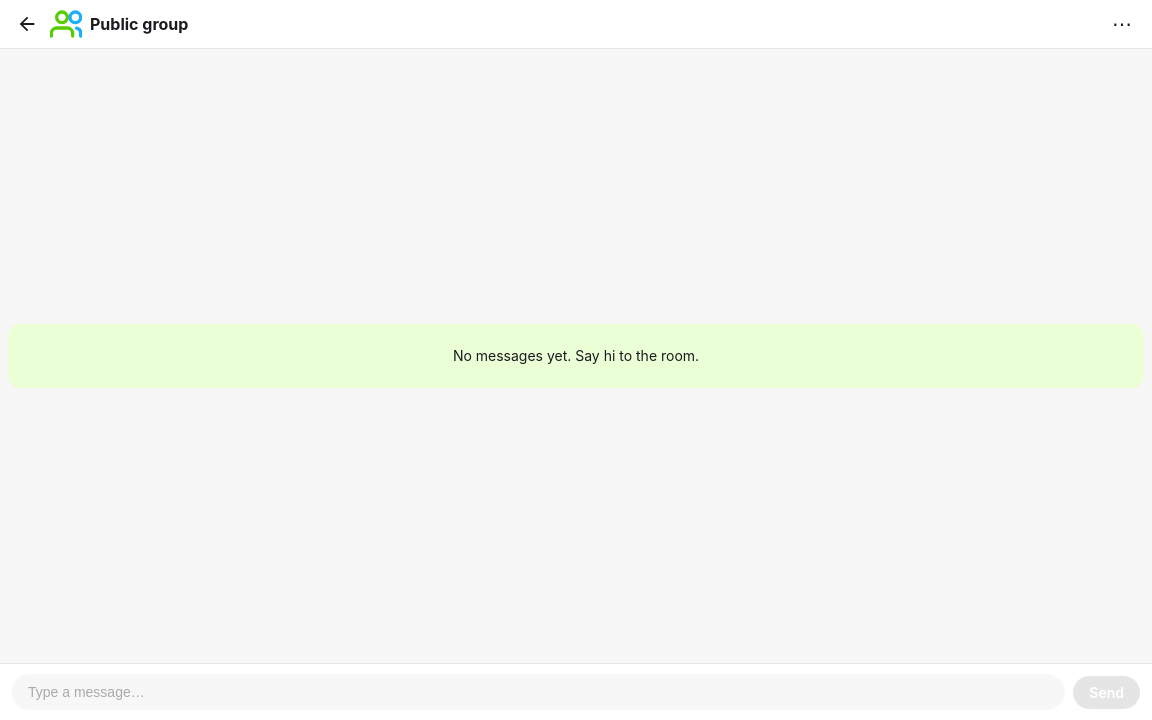
Test case: SocialChatPage › warns the user when pressing Enter before the socket is open
Type "hi" into the field with class "chat-input" at [539, 692], box [12, 674, 1065, 710]
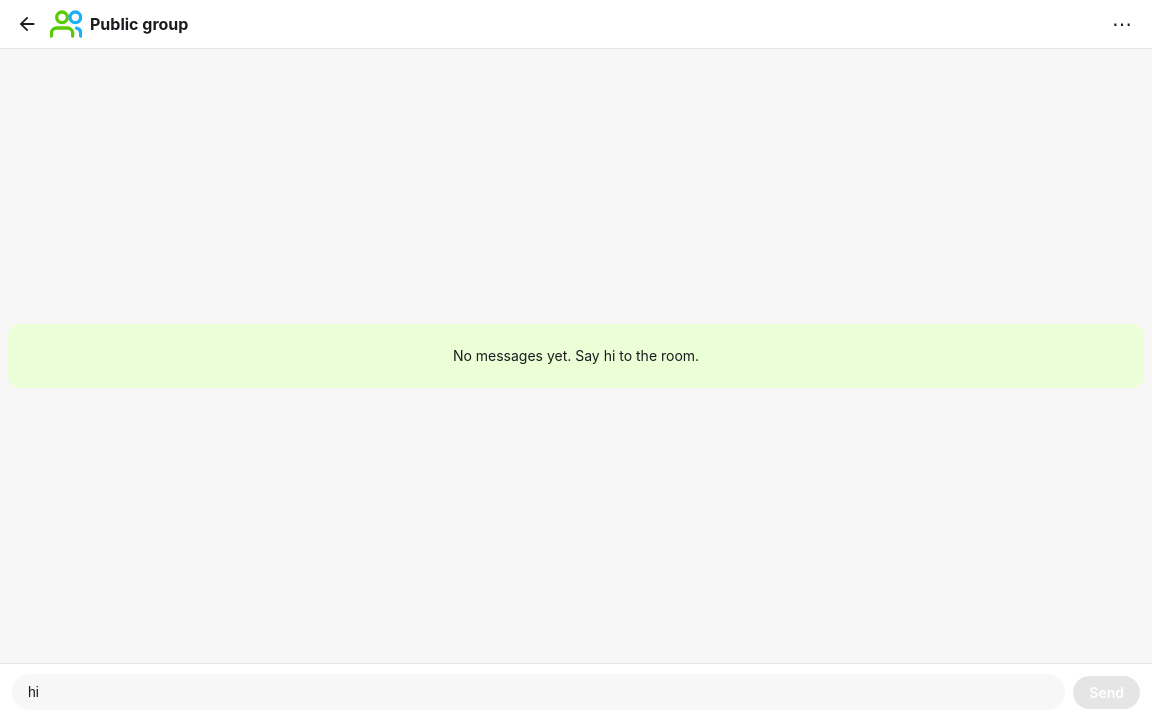
Press Enter in the field with class "chat-input", box [12, 674, 1065, 710]
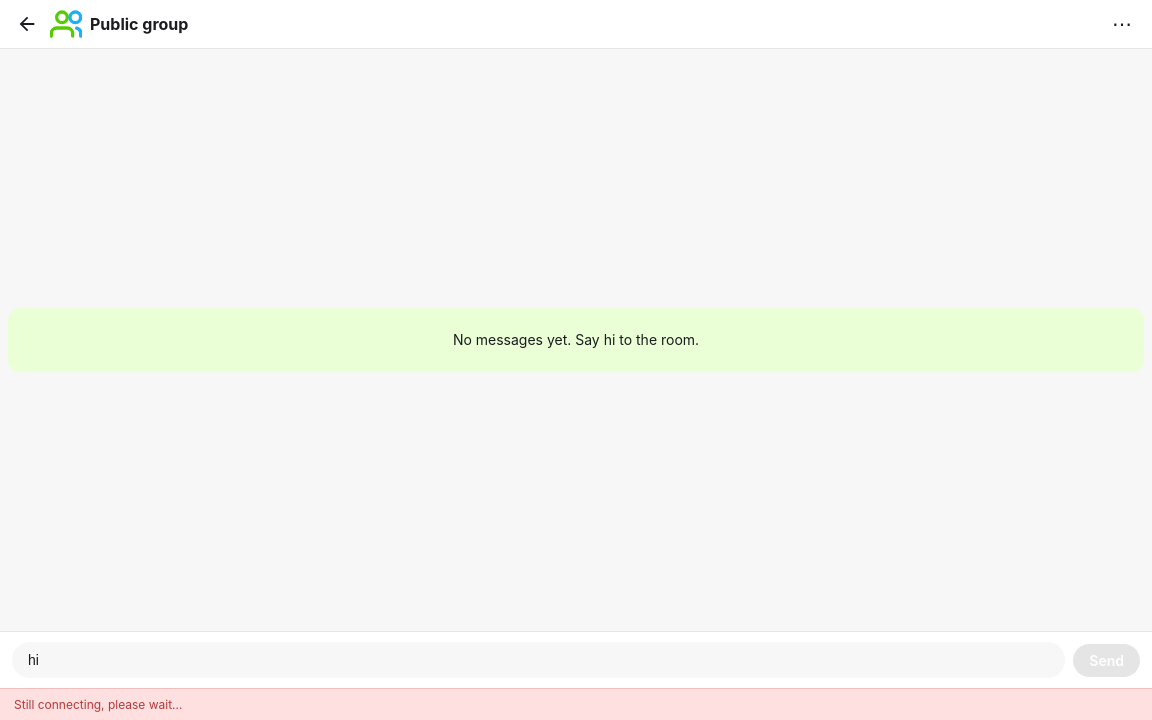
Expected: the text "Still connecting, please wait…" is shown, [0, 688, 1151, 719]
